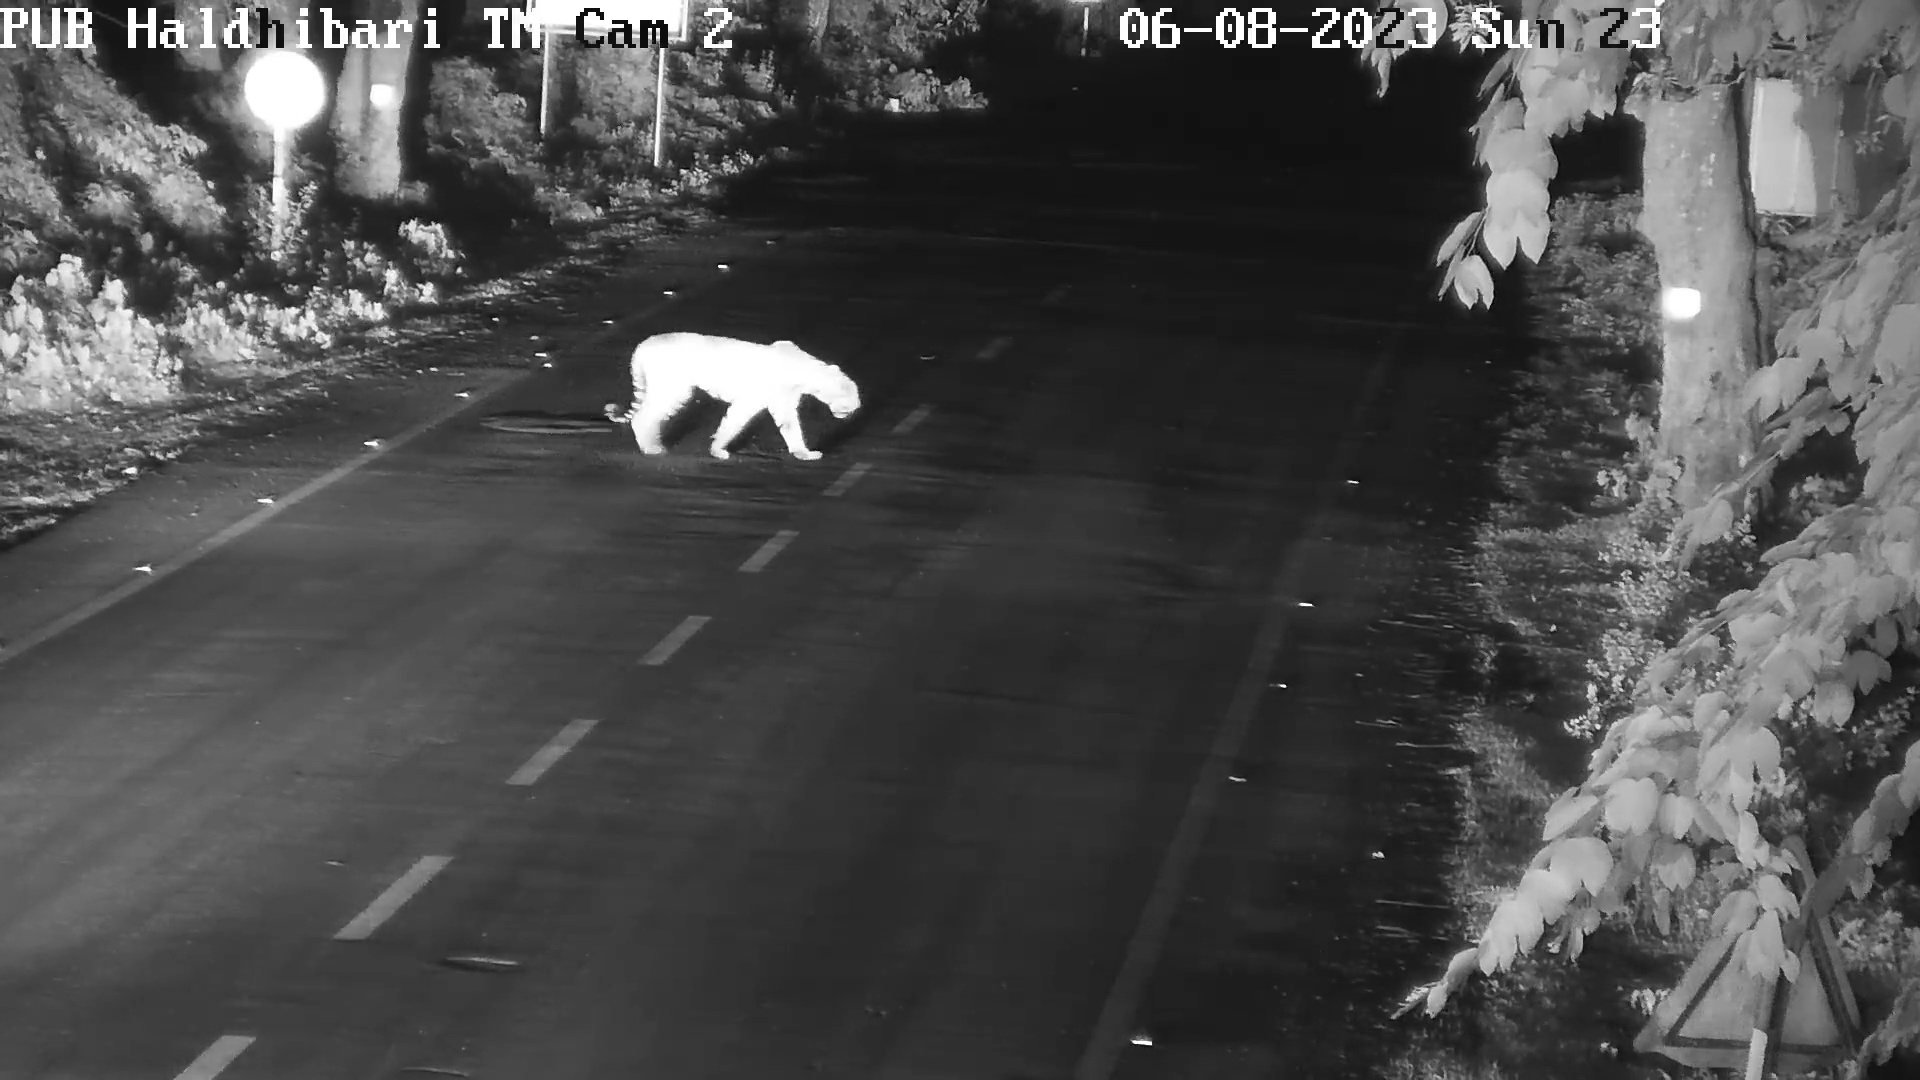tigers: (599, 324, 869, 472)
